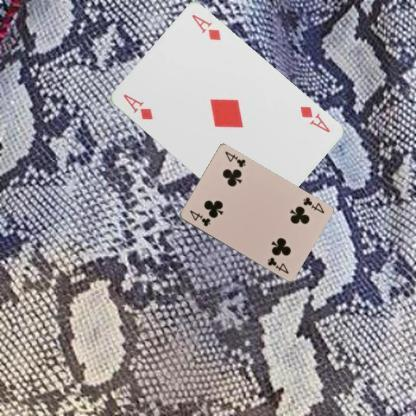4c: (186, 207, 212, 228), (300, 195, 325, 215)
Ad: (297, 103, 331, 134), (120, 92, 154, 121)
